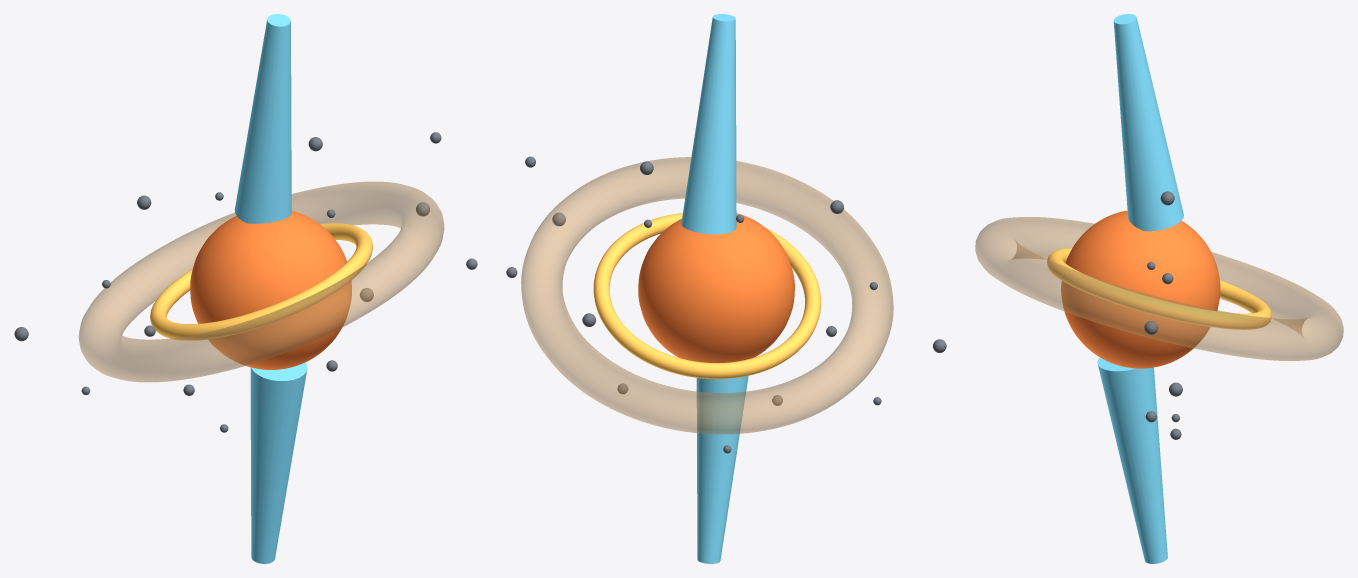
The model's file is space-p1-protostar.glb.
3 renders of one model, left to right at view 1: azimuth 30°, elevation 25°; view 2: azimuth 150°, elevation 25°; view 3: azimuth 270°, elevation 25°, orthographic. The views are drawn at different scales.
Visible parts, largest first — view 1: dusty-accretion-envelope, young-protostar-warm-growing-core, bipolar-jet-up-from-forming-star, bipolar-jet-down-from-forming-star, infalling-gas-disk-inner-track; view 2: dusty-accretion-envelope, young-protostar-warm-growing-core, bipolar-jet-up-from-forming-star, infalling-gas-disk-inner-track, bipolar-jet-down-from-forming-star; view 3: dusty-accretion-envelope, young-protostar-warm-growing-core, bipolar-jet-up-from-forming-star, bipolar-jet-down-from-forming-star, infalling-gas-disk-inner-track.
Boxes of the visible parts, x1,y1,x2,y2 form: dusty-accretion-envelope: [78, 181, 444, 382]; young-protostar-warm-growing-core: [190, 211, 351, 369]; bipolar-jet-up-from-forming-star: [234, 14, 291, 223]; bipolar-jet-down-from-forming-star: [250, 362, 307, 563]; infalling-gas-disk-inner-track: [150, 223, 372, 340]; dusty-accretion-envelope: [521, 157, 893, 434]; young-protostar-warm-growing-core: [638, 213, 794, 362]; bipolar-jet-up-from-forming-star: [681, 14, 736, 234]; infalling-gas-disk-inner-track: [593, 213, 820, 379]; bipolar-jet-down-from-forming-star: [696, 376, 748, 563]; dusty-accretion-envelope: [975, 217, 1343, 360]; young-protostar-warm-growing-core: [1061, 210, 1220, 368]; bipolar-jet-up-from-forming-star: [1113, 14, 1183, 231]; bipolar-jet-down-from-forming-star: [1097, 357, 1167, 563]; infalling-gas-disk-inner-track: [1047, 248, 1271, 329].
Size of what is drawn, in the model's own units: 2.21 by 2.55 by 1.57.
